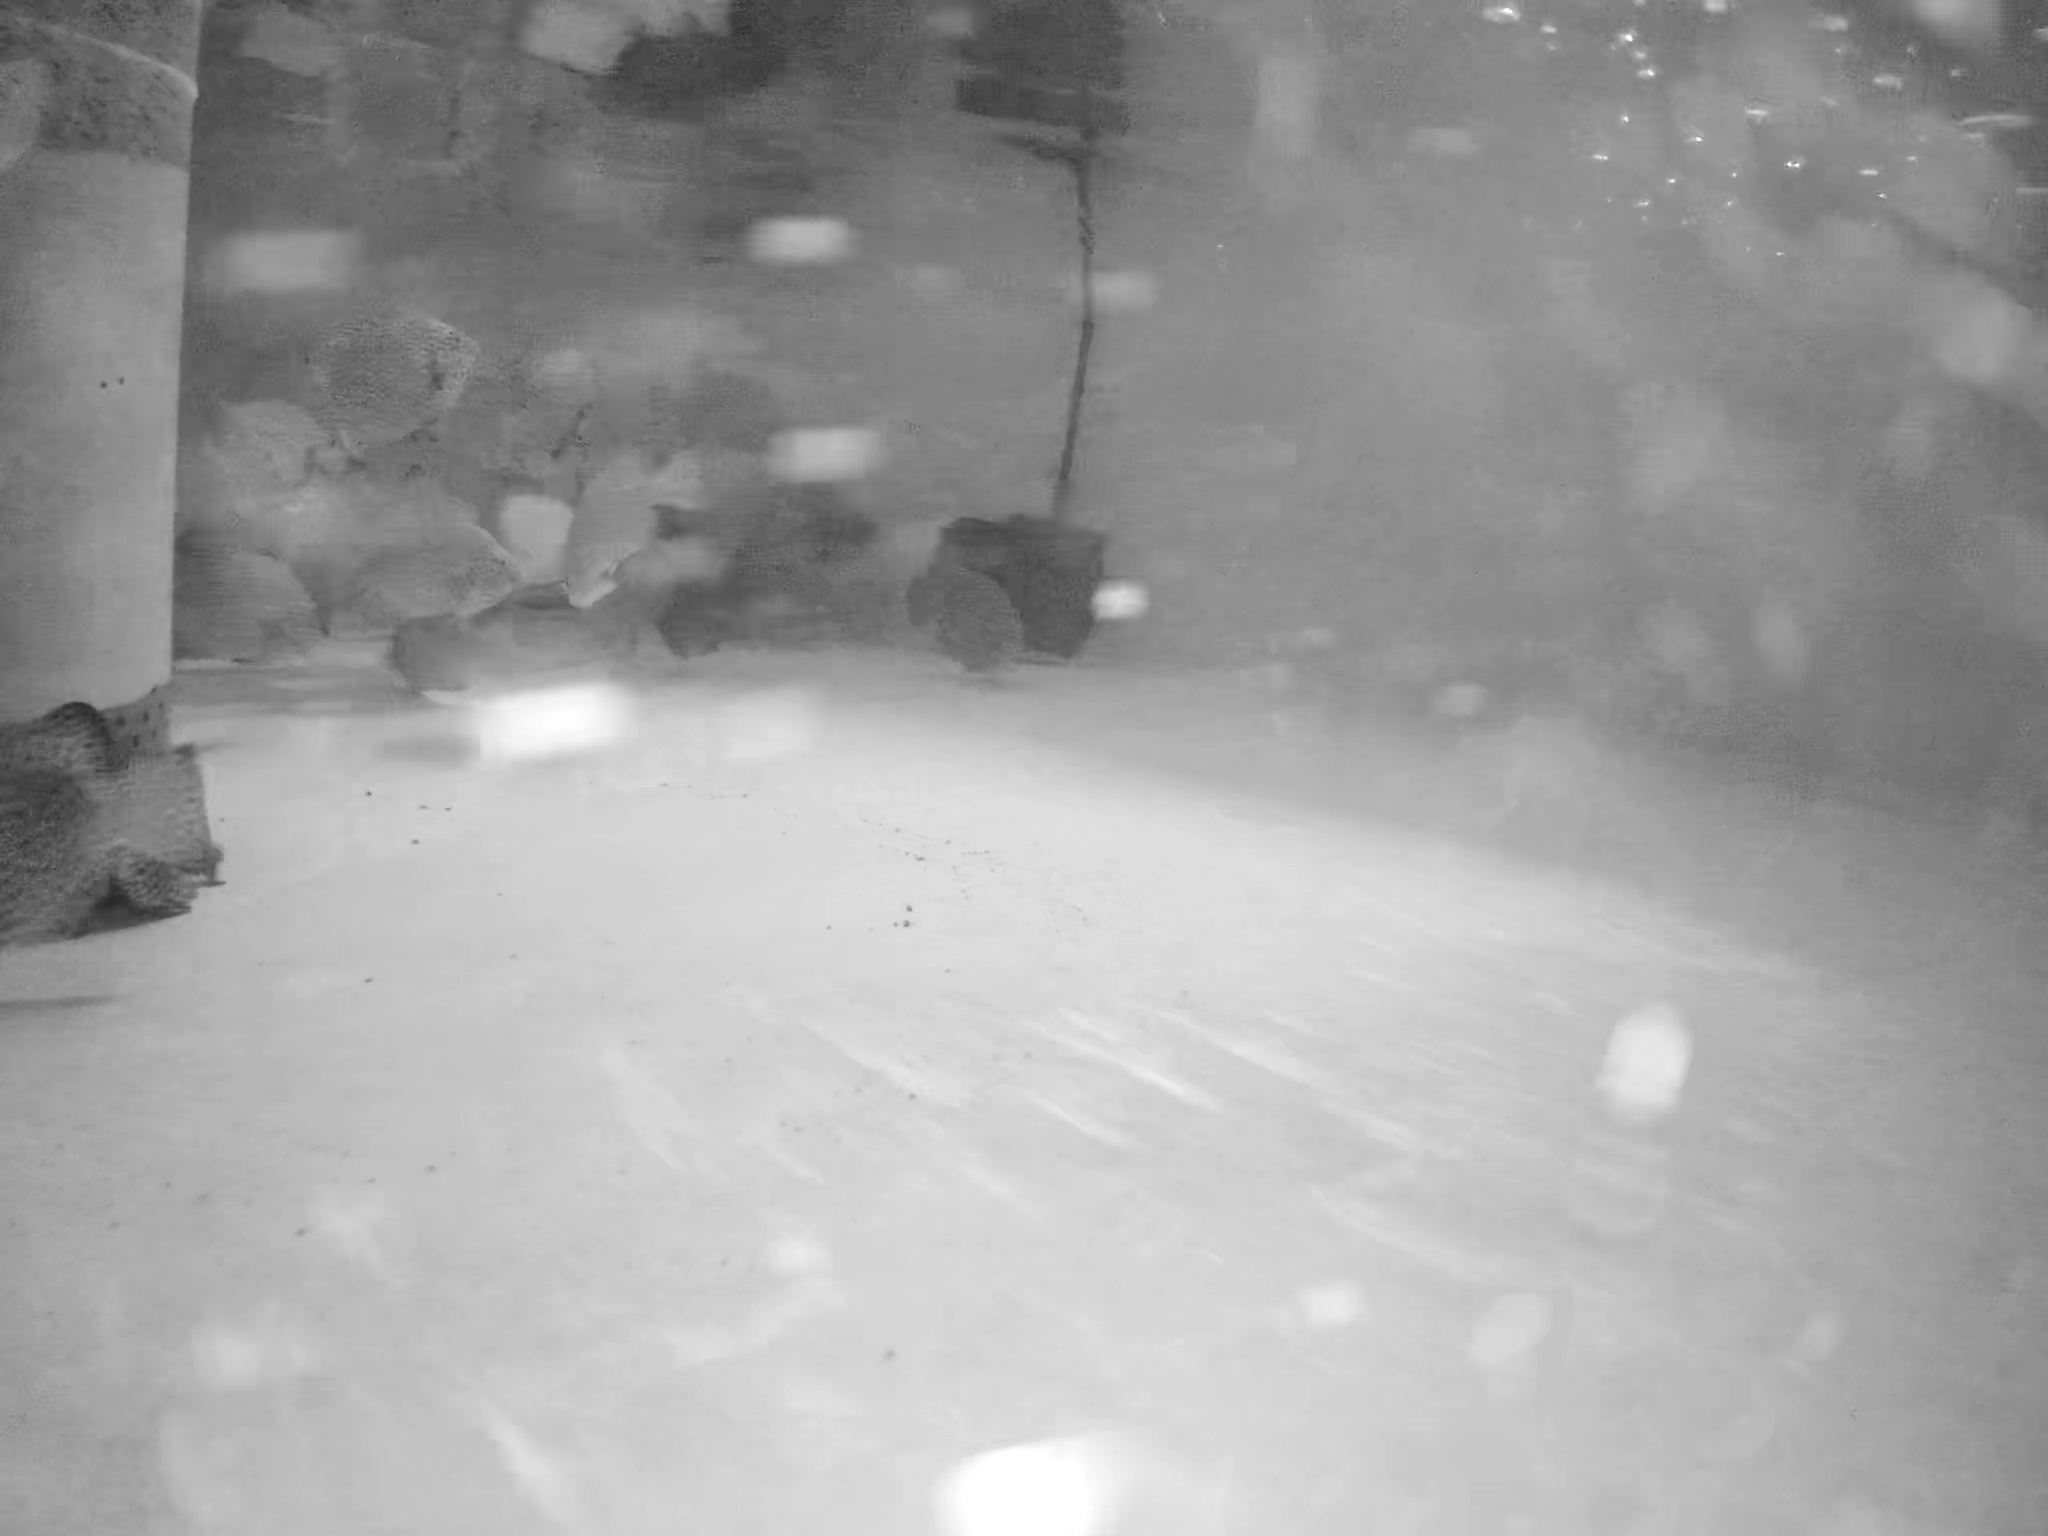fish: (3, 702, 232, 942), (402, 586, 656, 700), (689, 563, 972, 663), (290, 307, 477, 445), (593, 366, 808, 482), (198, 382, 355, 541), (655, 474, 914, 566), (360, 481, 537, 615), (190, 545, 345, 679)
